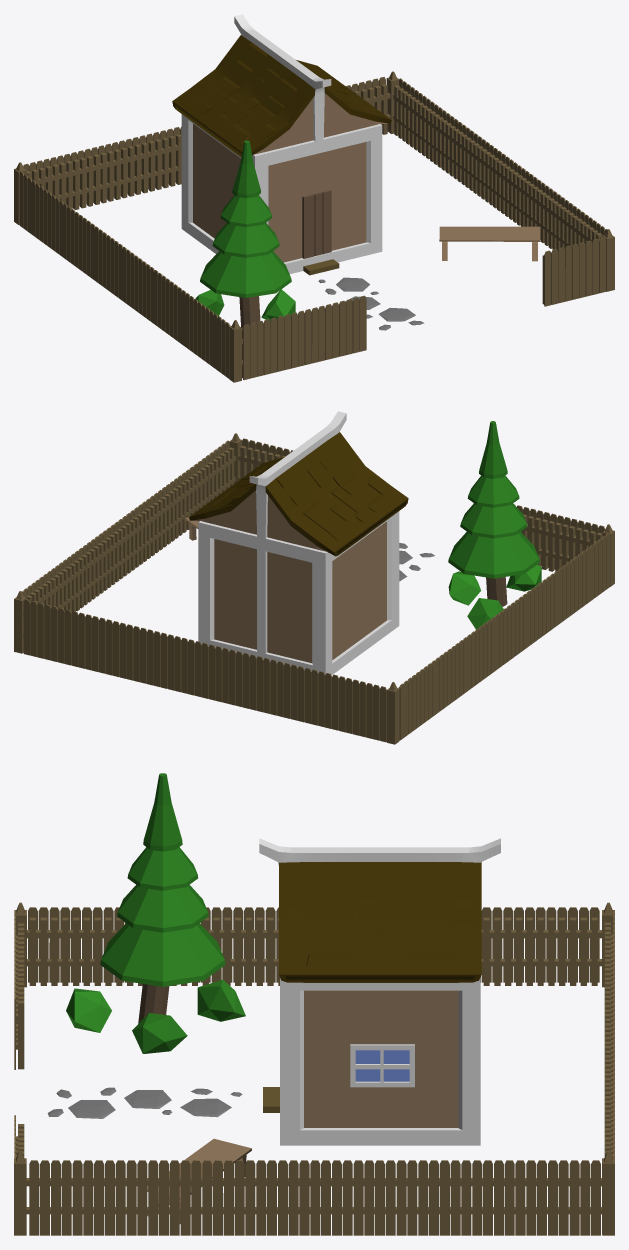
The model's file is 1lvl_brown.fbx.
3 views of the same model, one above another, from view 1: azimuth 30°, elevation 25°; view 2: azimuth 150°, elevation 25°; view 3: azimuth 270°, elevation 25° (orthographic). The views are drawn at different scales.
Visible parts, largest first — view 1: brown; view 2: brown; view 3: brown.
Part boxes in pixels (<box>): brown: <box>14,14,614,382</box>; brown: <box>14,411,614,744</box>; brown: <box>14,773,614,1235</box>.
Size of the model in its own units: 95.66 by 46.2 by 95.74.
